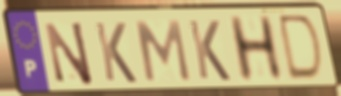D: (278, 13, 326, 85)
H: (225, 14, 287, 86)
K: (186, 18, 234, 83), (93, 20, 140, 86)
M: (133, 18, 193, 84)
N: (42, 19, 96, 88)
